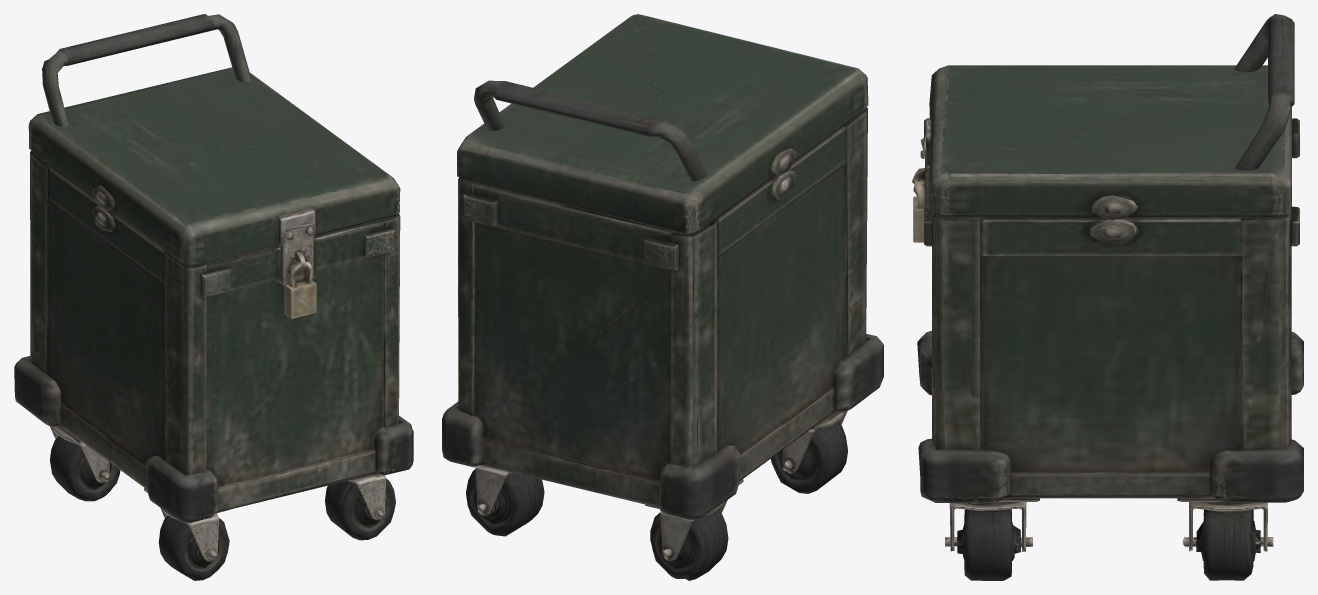
The model's file is p7-fare-vault-cart-t25.glb.
3 views of the same model, side by side, from view 1: azimuth 30°, elevation 25°; view 2: azimuth 150°, elevation 25°; view 3: azimuth 270°, elevation 25° (orthographic). The views are drawn at different scales.
Parts seen in each view (by area): view 1: p7-fare-vault-cart-t25; view 2: p7-fare-vault-cart-t25; view 3: p7-fare-vault-cart-t25.
Part boxes in pixels (bbox=[...]): p7-fare-vault-cart-t25: bbox=[14, 14, 413, 580]; p7-fare-vault-cart-t25: bbox=[442, 14, 883, 580]; p7-fare-vault-cart-t25: bbox=[912, 14, 1303, 580].
Size of the model in its own units: 0.582 by 1 by 0.75.
1 material, 1 textured.
